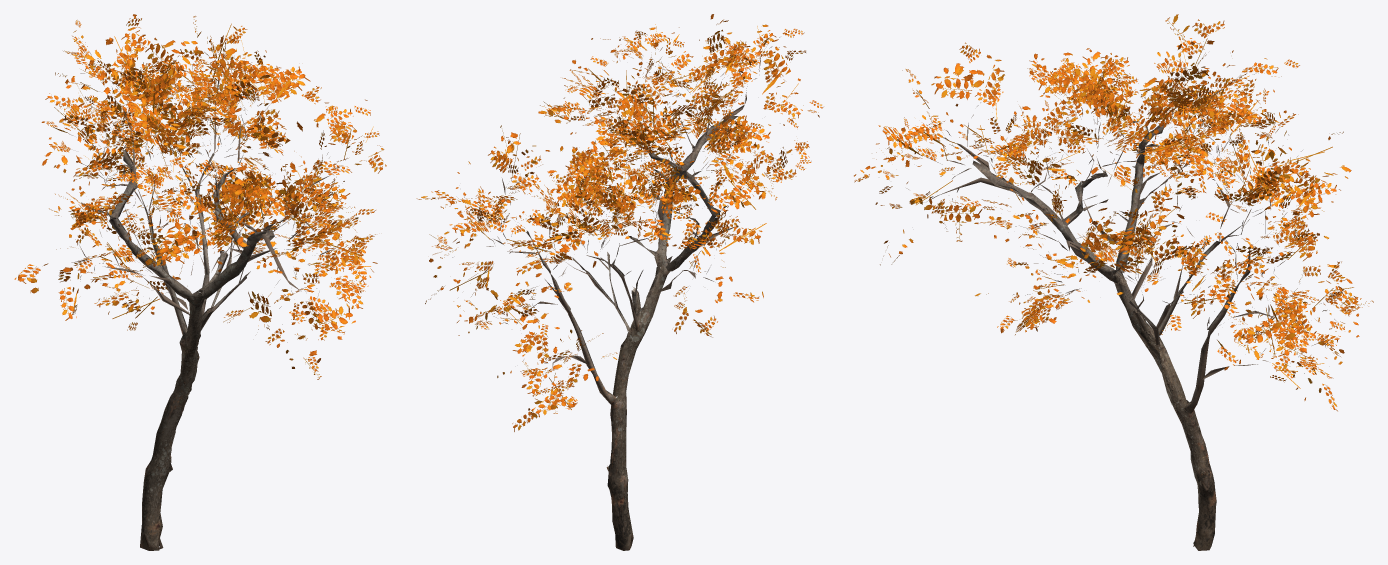
File: tree_mid.gltf
3 renders of one model, left to right at view 1: azimuth 30°, elevation 25°; view 2: azimuth 150°, elevation 25°; view 3: azimuth 270°, elevation 25°, orthographic. The views are drawn at different scales.
Visible parts, largest first — view 1: tree_leaves_mid, tree_small_02_LOD0.002, tree_small_02_LOD0.004; view 2: tree_leaves_mid, tree_small_02_LOD0.002, tree_small_02_LOD0.004; view 3: tree_leaves_mid, tree_small_02_LOD0.002, tree_small_02_LOD0.004.
Boxes of the visible parts, x1,y1,x2,y2 form: tree_leaves_mid: [14, 14, 386, 379]; tree_small_02_LOD0.002: [81, 149, 295, 550]; tree_small_02_LOD0.004: [69, 51, 353, 342]; tree_leaves_mid: [416, 14, 823, 431]; tree_small_02_LOD0.002: [526, 116, 738, 550]; tree_small_02_LOD0.004: [452, 37, 795, 394]; tree_leaves_mid: [854, 14, 1373, 411]; tree_small_02_LOD0.002: [972, 121, 1250, 550]; tree_small_02_LOD0.004: [906, 41, 1338, 379].
Size of the model in its own units: 2.96 by 4.54 by 4.31.
3 materials, 3 textured.
